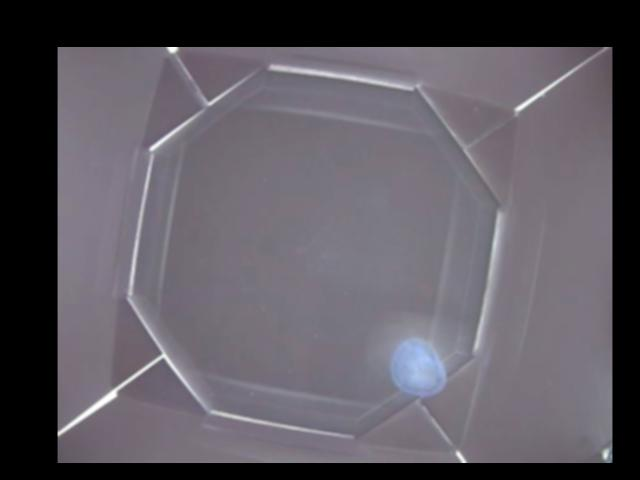Pebble: (388, 338, 445, 392)
